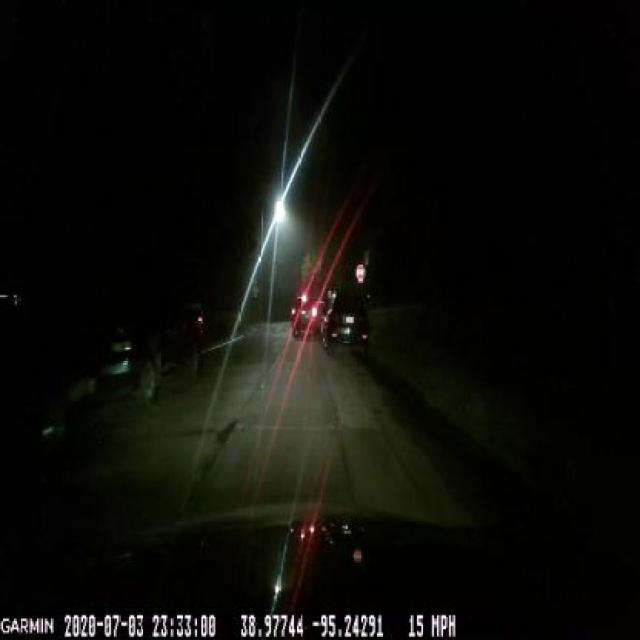Pothole: (210, 416, 242, 452)
